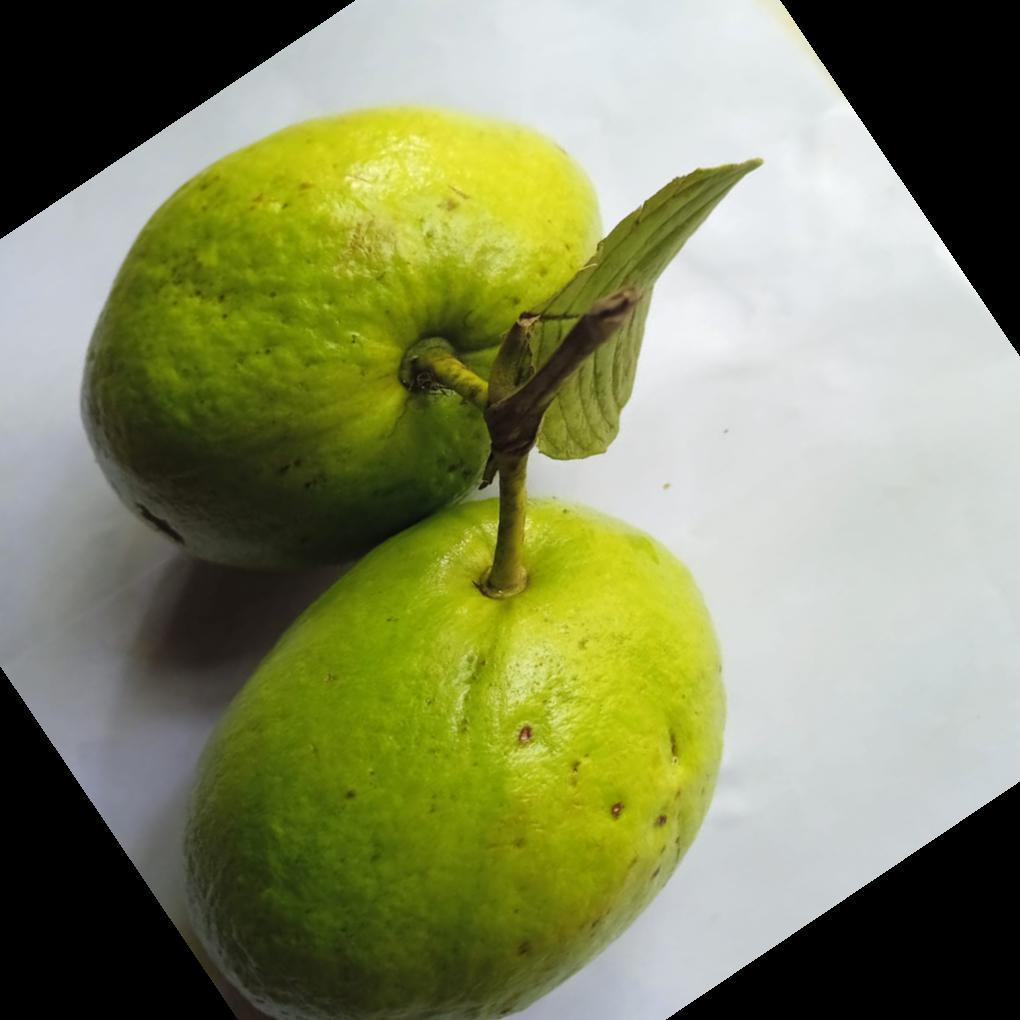FreshGuava: (76, 105, 760, 1020)
